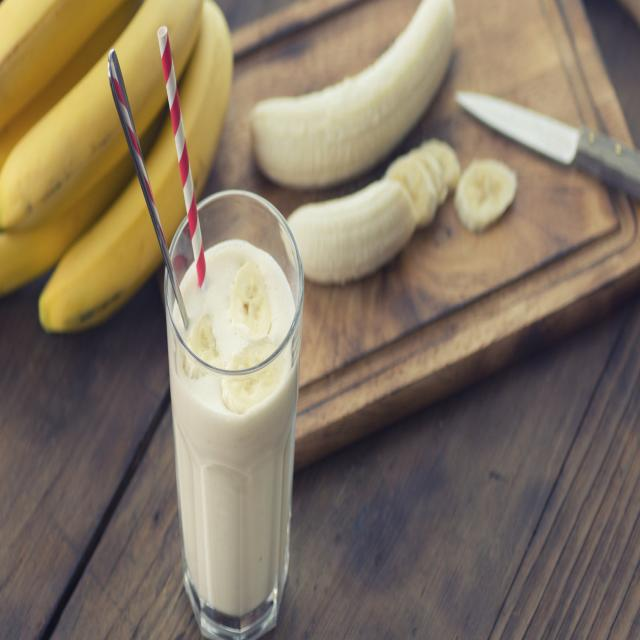banana: (240, 0, 514, 191)
